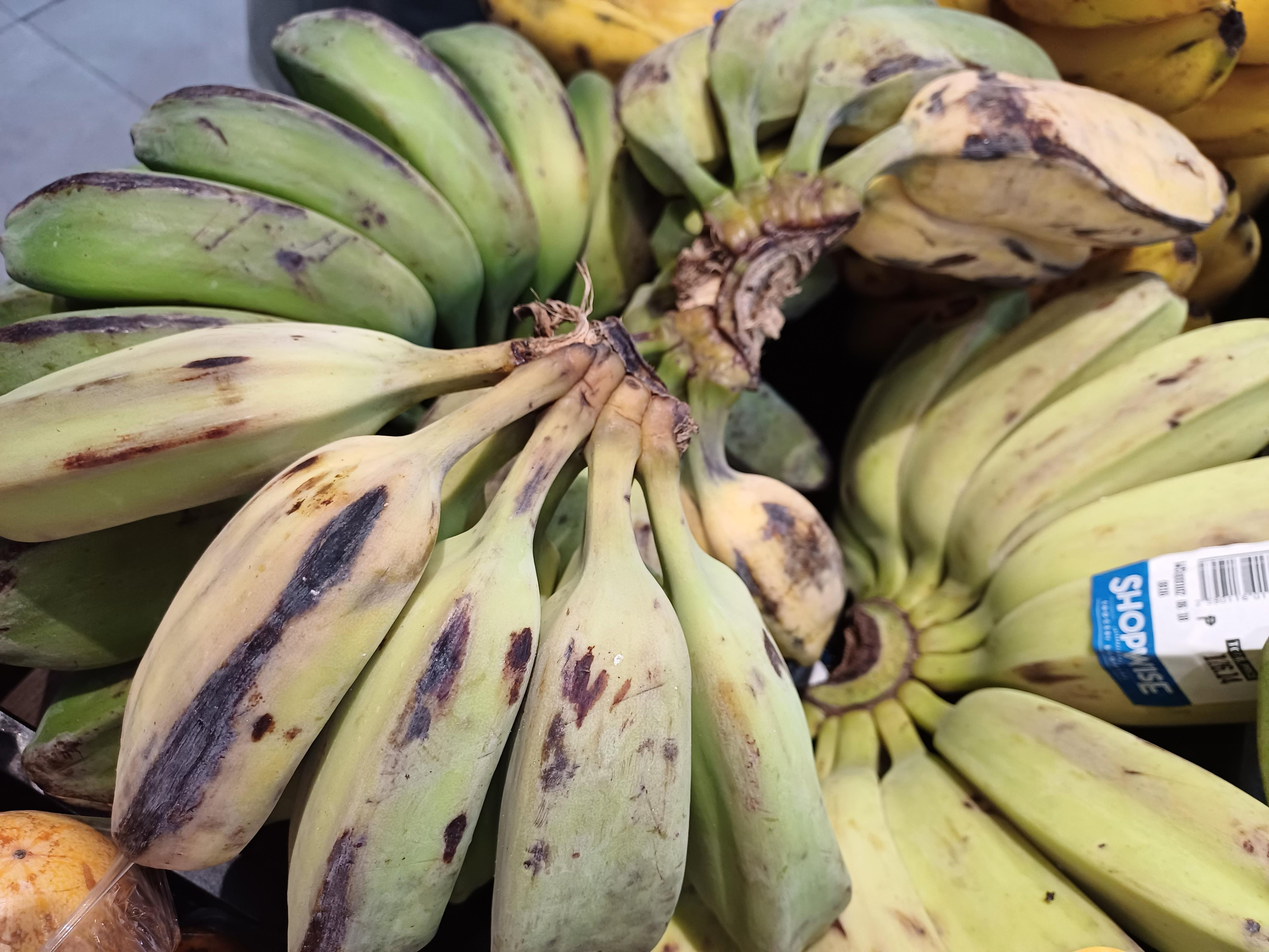underripe: (0, 322, 850, 950), (815, 276, 1269, 952), (0, 8, 652, 395), (618, 0, 1227, 288)
